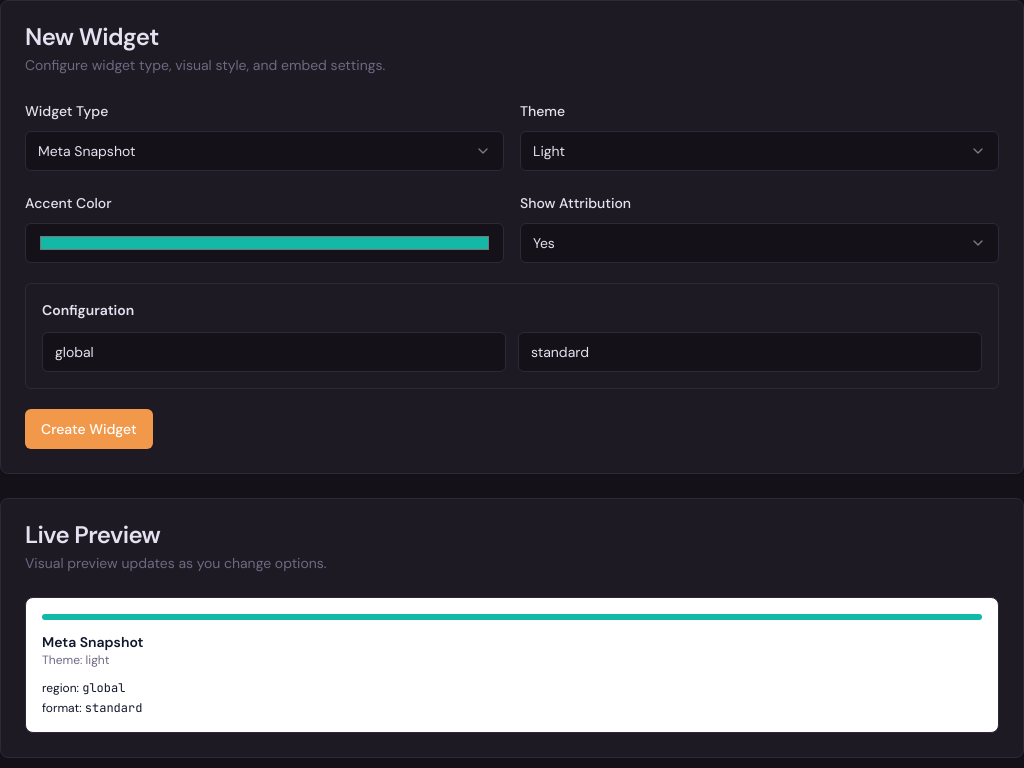
Test case: WidgetBuilder › shows live preview and updates config values
The image size is (1024, 768).
Replace the text in the 1st field with placeholder "Region (global/JP/NA/EU)" with "JP" at (274, 352), box top-left (42, 332), bottom-right (506, 372)
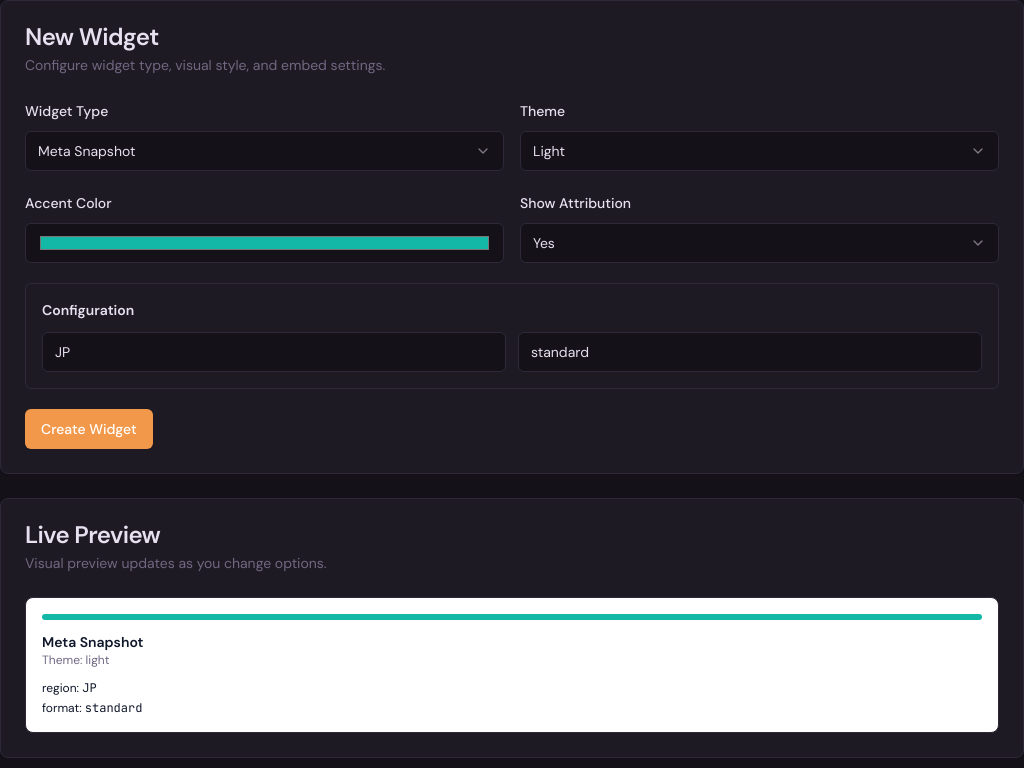
Expected: the element with test id "widget-live-preview" is shown, top-left (25, 597), bottom-right (999, 733)
Now the text "JP" is shown, box top-left (82, 680), bottom-right (97, 696)
